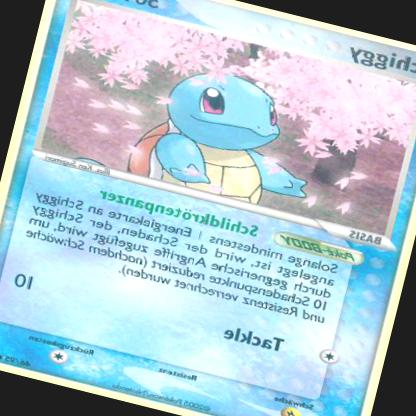Squirtle: (118, 54, 329, 217)
